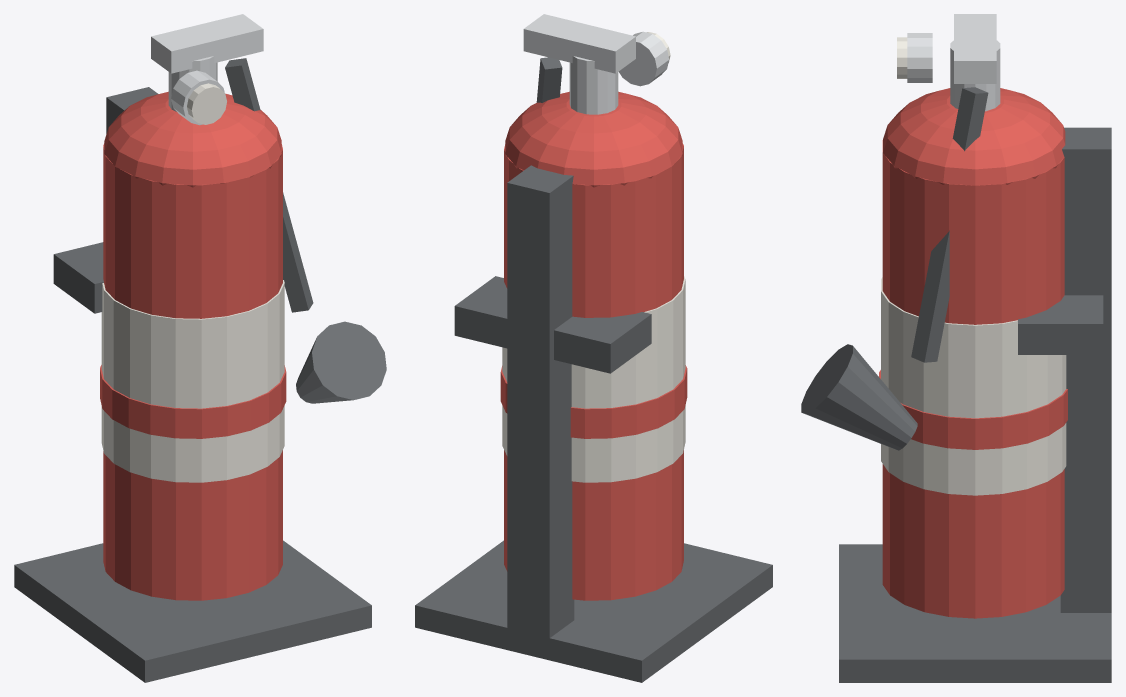
File: fire-extinguisher.glb
The picture shows the model from 3 angles, left to right: view 1: azimuth 30°, elevation 25°; view 2: azimuth 150°, elevation 25°; view 3: azimuth 270°, elevation 25°; orthographic projection. The views are drawn at different scales.
Visible parts, largest first — view 1: car-repair-garage-and-mot-workshop-fire-extinguisher; view 2: car-repair-garage-and-mot-workshop-fire-extinguisher; view 3: car-repair-garage-and-mot-workshop-fire-extinguisher.
Part boxes in pixels (x1,y1,x2,y2): car-repair-garage-and-mot-workshop-fire-extinguisher: (14, 14, 386, 682); car-repair-garage-and-mot-workshop-fire-extinguisher: (415, 14, 772, 682); car-repair-garage-and-mot-workshop-fire-extinguisher: (801, 14, 1111, 682).
Bounding box in the file's own units: 0.33 × 0.77 × 0.3643.
